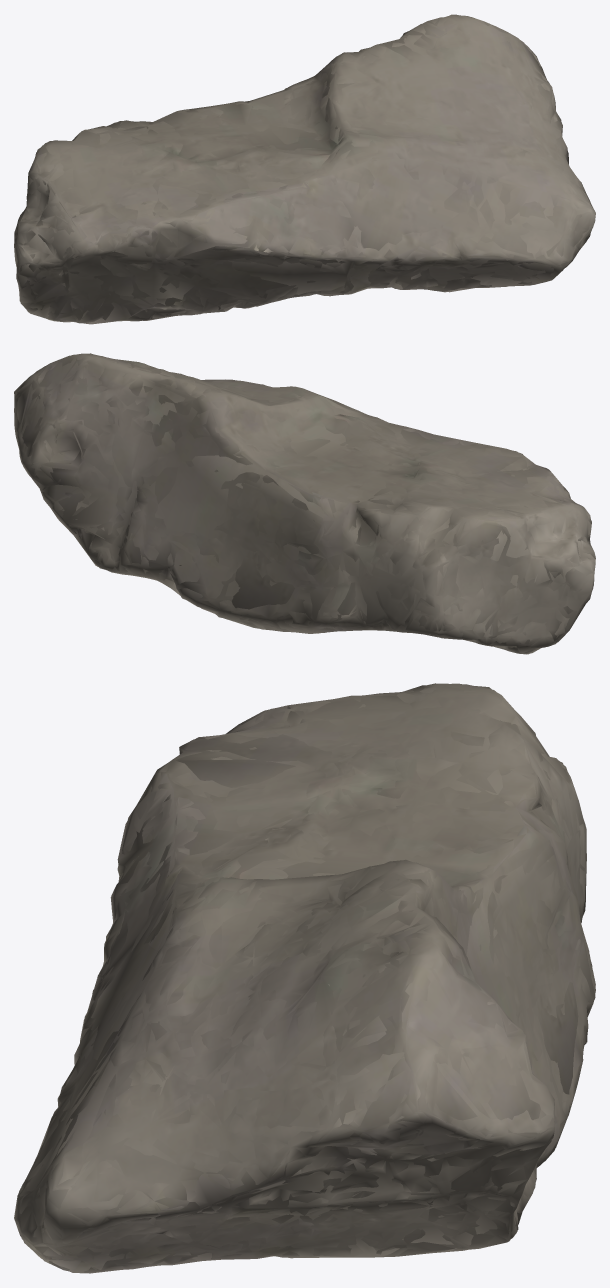
The model's file is rock_moon_a.glb.
3 views of the same model, one above another, from view 1: azimuth 30°, elevation 25°; view 2: azimuth 150°, elevation 25°; view 3: azimuth 270°, elevation 25° (orthographic). The views are drawn at different scales.
Visible parts, largest first — view 1: moon_rock_01_LOD0; view 2: moon_rock_01_LOD0; view 3: moon_rock_01_LOD0.
Part boxes in pixels (bbox=[...]): moon_rock_01_LOD0: bbox=[14, 14, 595, 324]; moon_rock_01_LOD0: bbox=[14, 353, 595, 654]; moon_rock_01_LOD0: bbox=[14, 683, 595, 1273].
Size of the model in its own units: 0.2123 by 0.0753 by 0.1117.
1 material, 1 textured.
